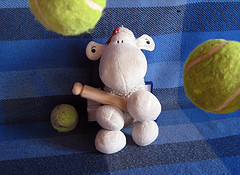tennis ball: (182, 38, 240, 114), (26, 1, 107, 36), (48, 102, 78, 132)
